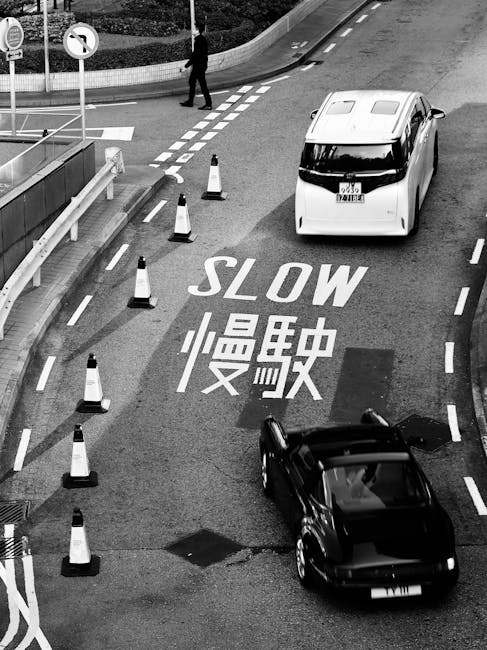traffic_cone: (60, 506, 101, 577), (62, 423, 98, 489), (75, 352, 111, 414), (127, 255, 158, 309), (167, 193, 198, 243), (201, 153, 228, 201)
